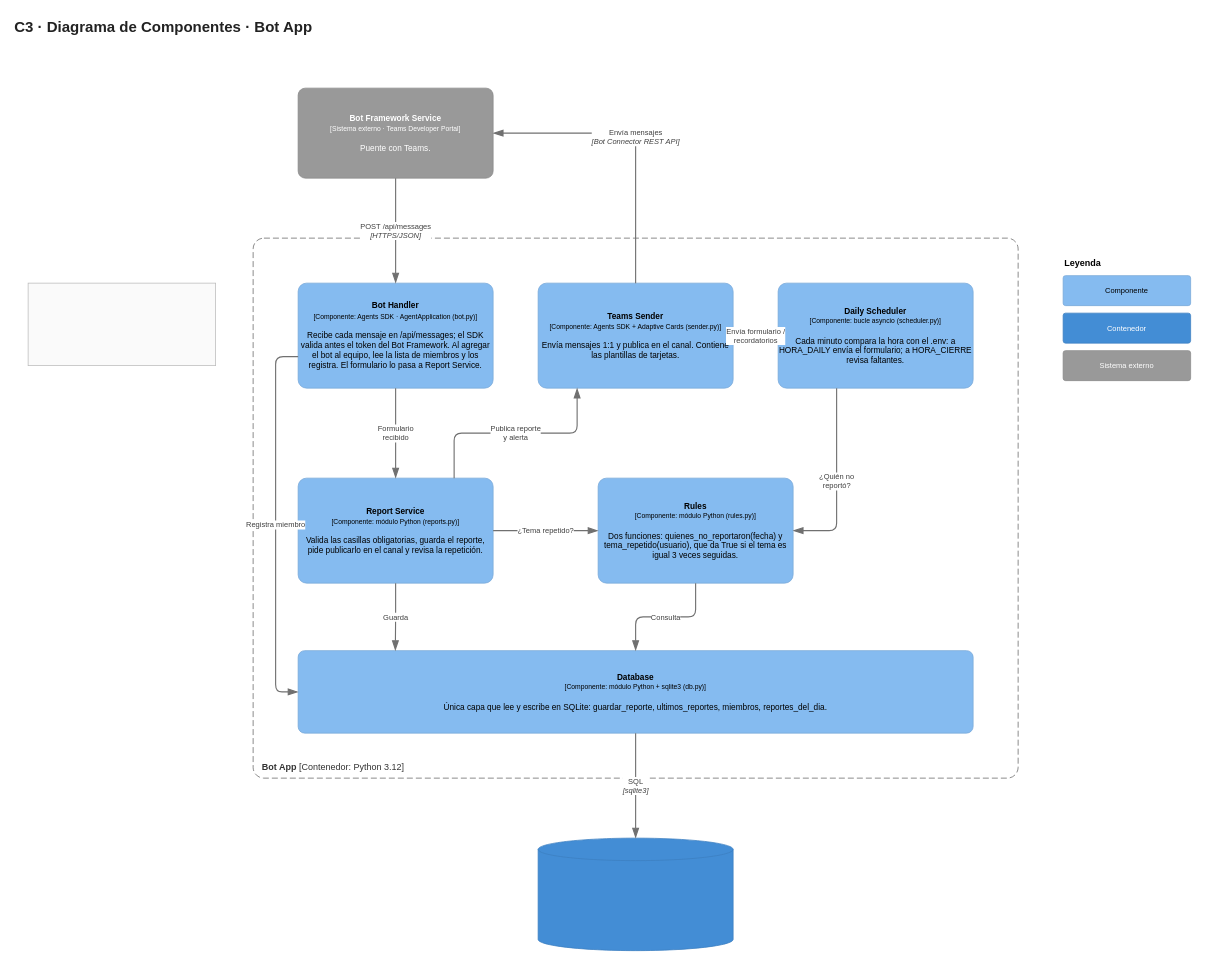
The diagram is 1226 pixels wide and 964 high, and some of its shapes have lost their labels. The shapes that lost their labels are listed below. From the top down, each one's centre as x and y in pixels, then its label:
At pixel 121 324: ".env Lo leen Daily Scheduler (horas) y Teams Sender (credenciales y canal).".
At pixel 635 894: "Base de datos [Contenedor: SQLite] members · reports".
